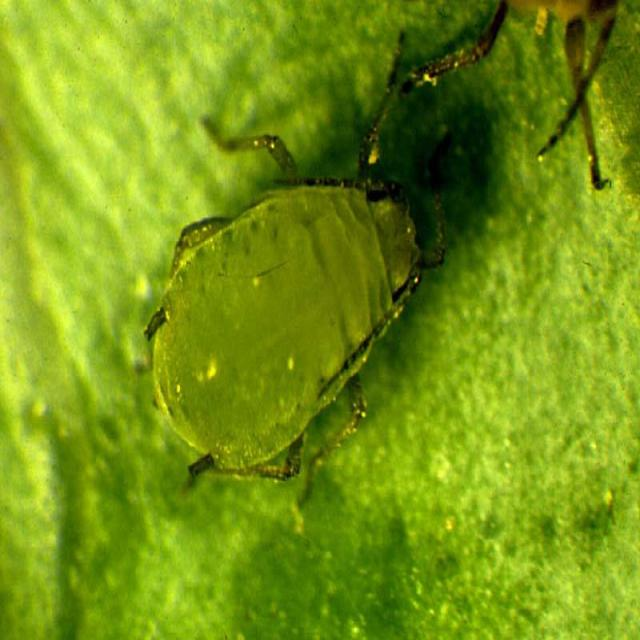Aphids: (117, 112, 444, 519)
